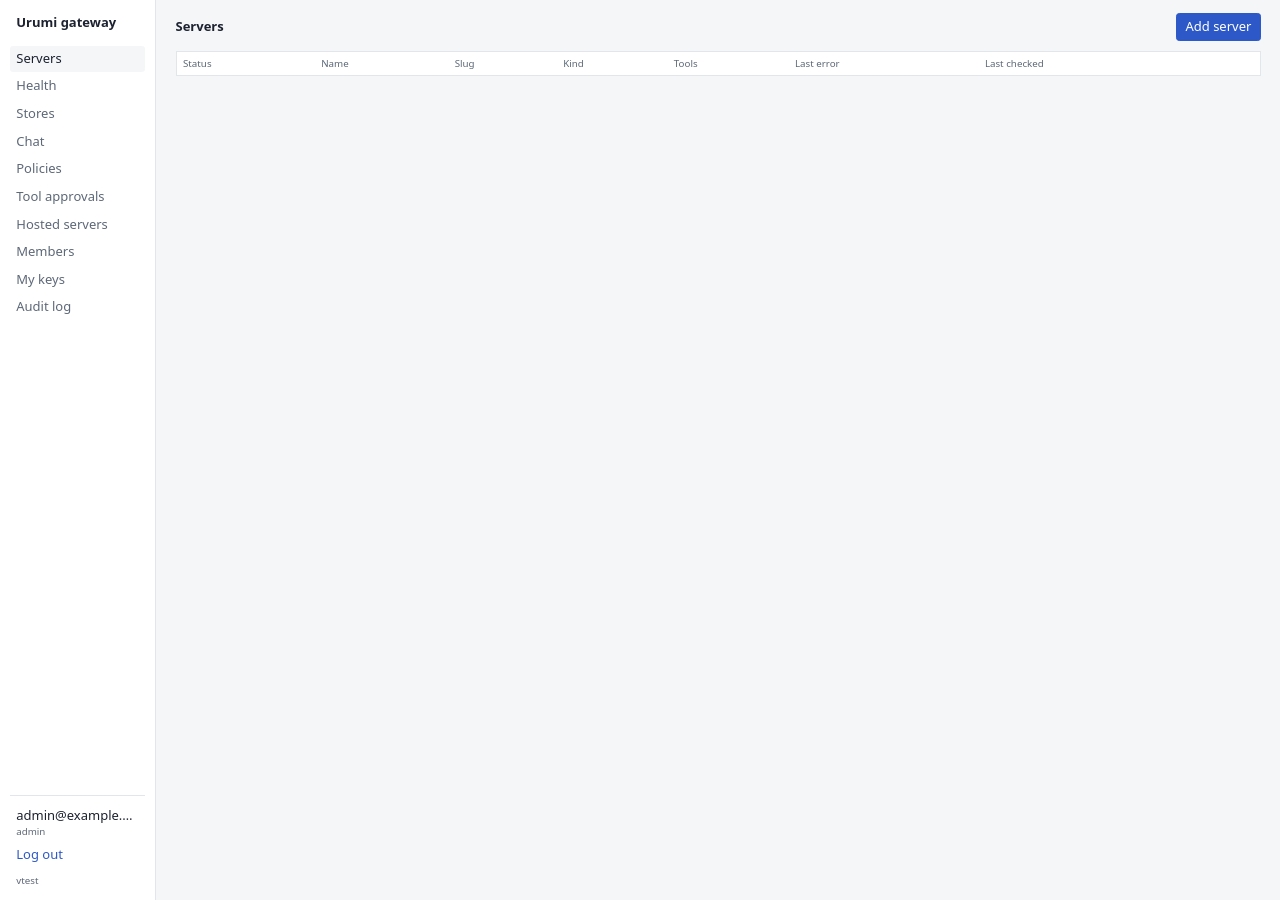
Scenario: Health page through the real routes › an admin sees the nav entry after Servers and the table
The image size is (1280, 900).
Step 1. Click the link "Health" → [36, 85], box [16,76,57,94]
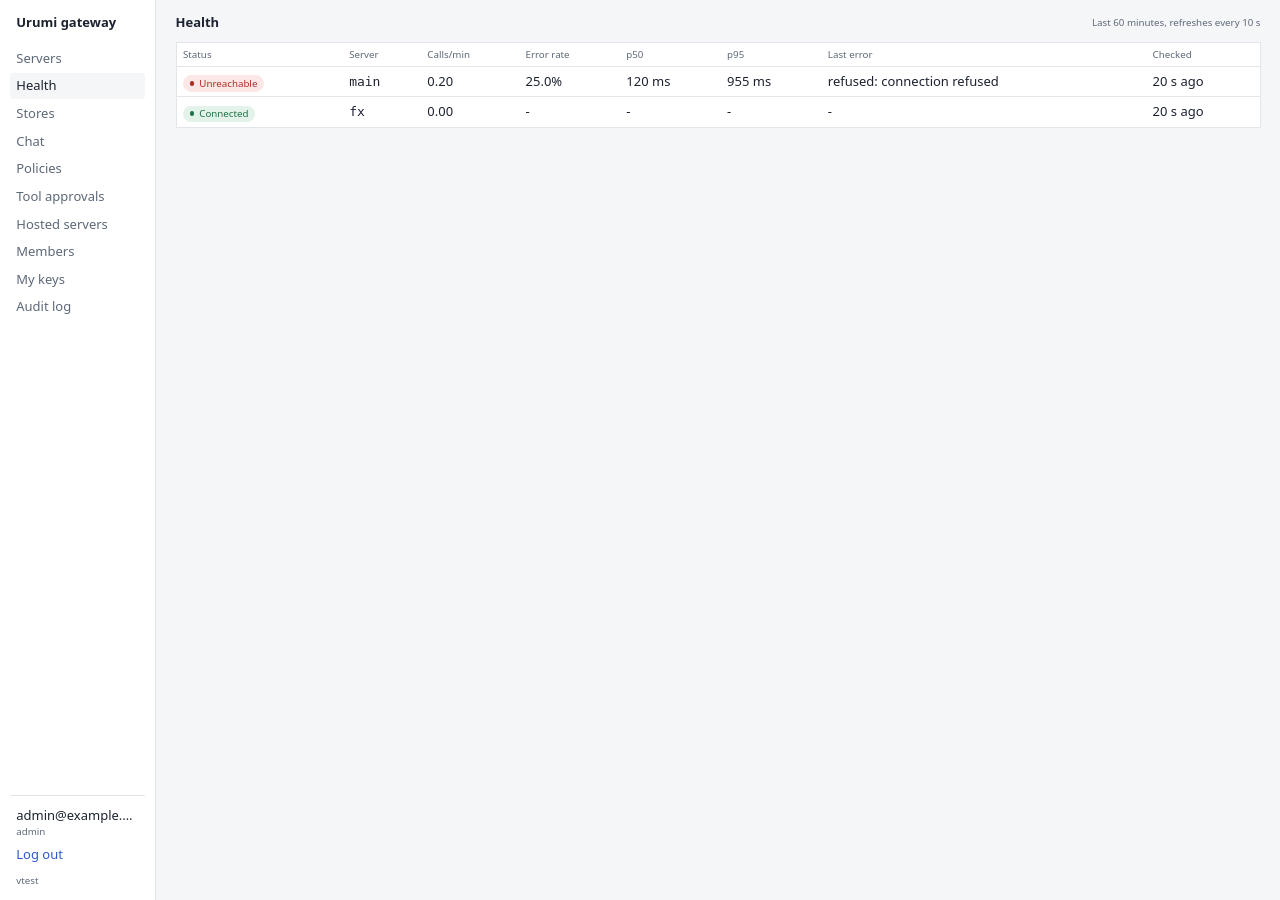
Expected: the heading "Health" is shown, [176,13,219,32]
Expected: the text "main" is shown, [343,66,421,97]
Expected: the text "fx" is shown, [343,97,421,127]
